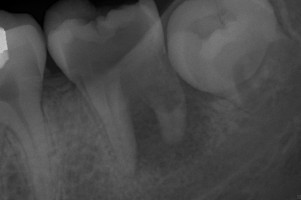Dental Caries: (122, 74, 217, 173)
